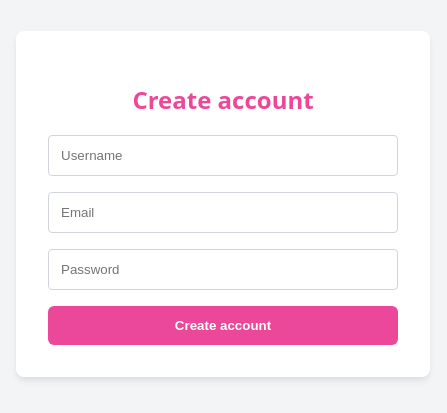
RegisterForm › should show error when username field is empty
This screenshot has width=447, height=413.
Type "test@example.com" into the field with placeholder "Email" at point(223, 213), box x1=48 y1=192 x2=398 y2=233
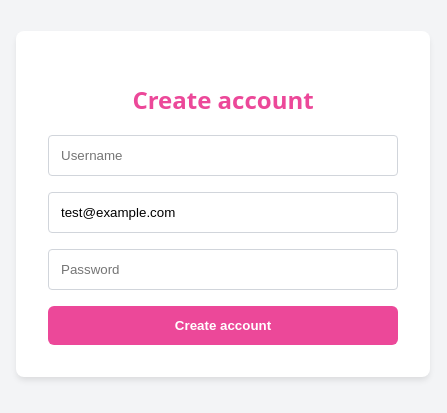
Type "password123" into the password field with placeholder "Password" at point(223, 270), box x1=48 y1=249 x2=398 y2=290
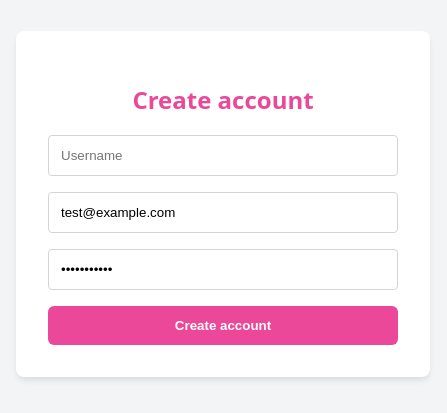
Click the button "Create account" at point(223, 326), box x1=48 y1=306 x2=398 y2=345
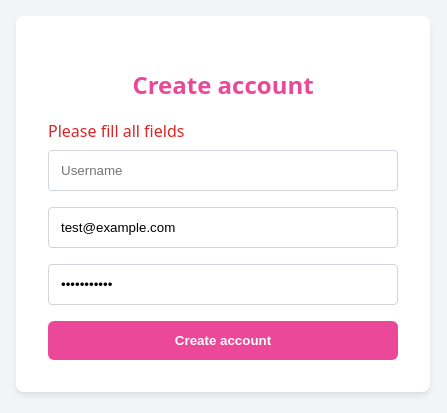
Now the text "Please fill all fields" is shown, box x1=48 y1=120 x2=184 y2=142
